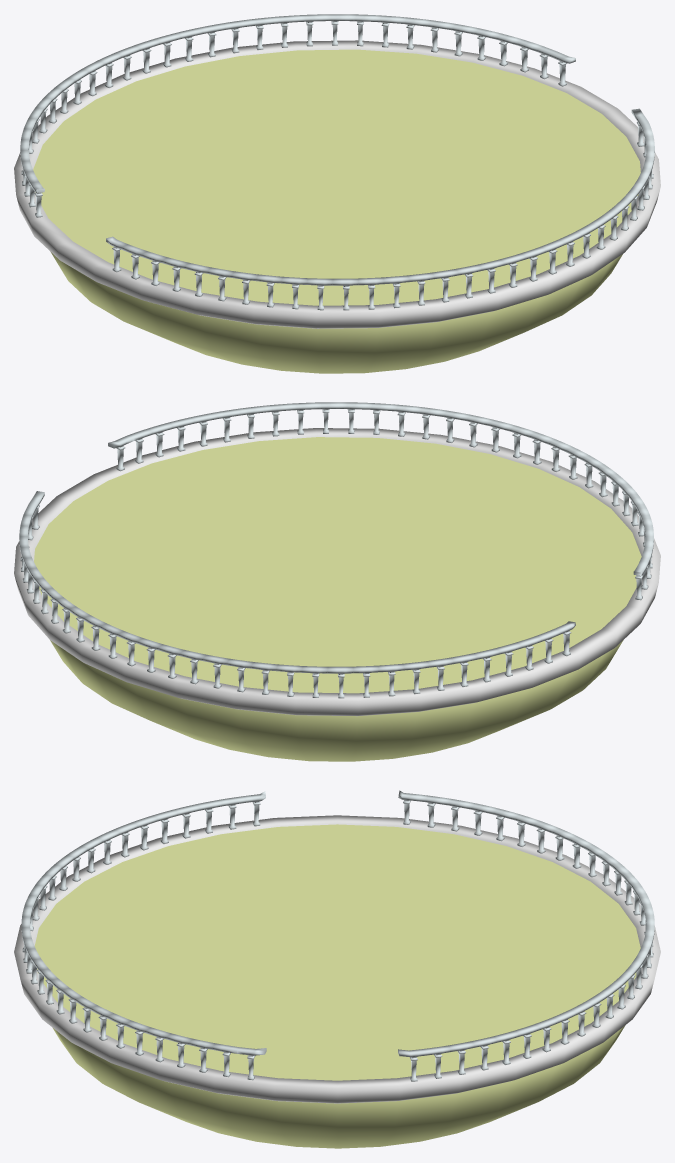
The model's file is SmallPlatform_TwoGate.fbx.
The picture shows the model from 3 angles, top to bottom: view 1: azimuth 30°, elevation 25°; view 2: azimuth 150°, elevation 25°; view 3: azimuth 270°, elevation 25°; orthographic projection.
Parts seen in each view (by area): view 1: GrassPlatform, Circle, GrassShader, PlatformRailing; view 2: GrassPlatform, Circle, GrassShader, PlatformRailing; view 3: GrassPlatform, Circle, GrassShader, PlatformRailing.
Part boxes in pixels (<box>): GrassPlatform: <box>33,49,640,305</box>; Circle: <box>14,40,660,328</box>; GrassShader: <box>51,252,622,373</box>; PlatformRailing: <box>20,14,654,310</box>; GrassPlatform: <box>34,437,641,693</box>; Circle: <box>14,428,660,716</box>; GrassShader: <box>50,640,623,761</box>; PlatformRailing: <box>19,402,653,698</box>; GrassPlatform: <box>34,824,640,1080</box>; Circle: <box>14,815,660,1103</box>; GrassShader: <box>53,1025,625,1148</box>; PlatformRailing: <box>21,790,654,1081</box>.
Size of the model in its own units: 8803 by 2643 by 8803.
